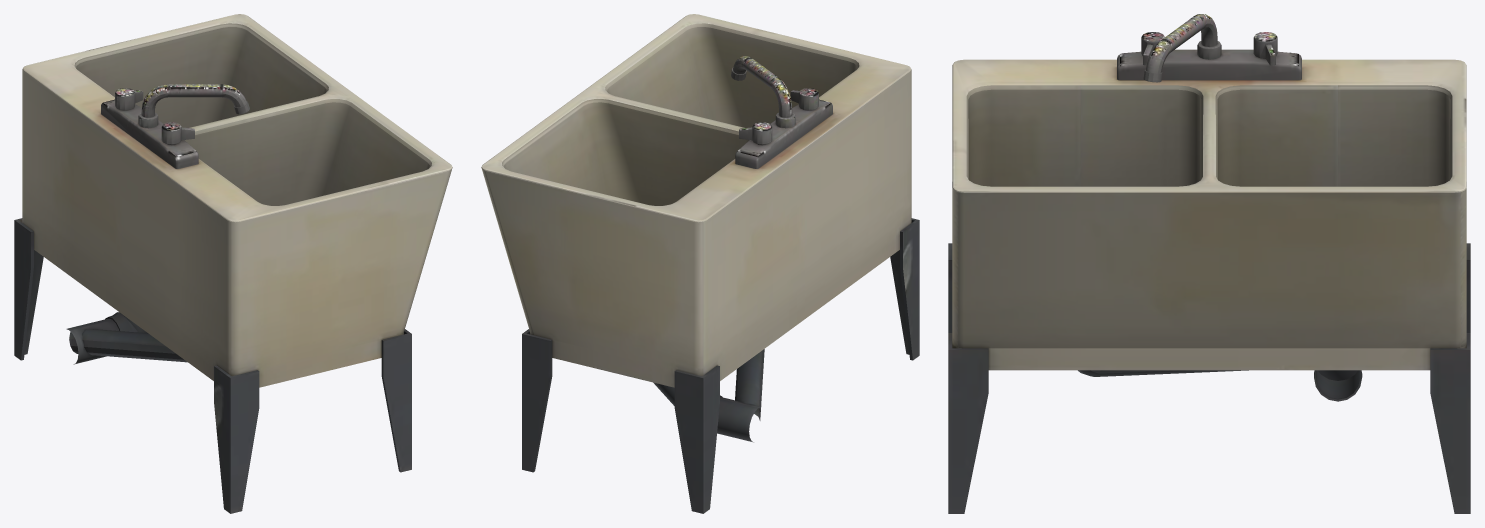
3 renders of one model, left to right at view 1: azimuth 30°, elevation 25°; view 2: azimuth 150°, elevation 25°; view 3: azimuth 270°, elevation 25°, orthographic. The views are drawn at different scales.
Visible parts, largest first — view 1: body0_model0_lod0_mesh0; view 2: body0_model0_lod0_mesh0; view 3: body0_model0_lod0_mesh0.
Boxes of the visible parts, x1,y1,x2,y2 form: body0_model0_lod0_mesh0: (14,14,452,513); body0_model0_lod0_mesh0: (481,14,919,513); body0_model0_lod0_mesh0: (948,14,1470,513).
Size of the model in its own units: 49.4 by 71.25 by 81.25.
Materials: 1 (1 with a texture image).
